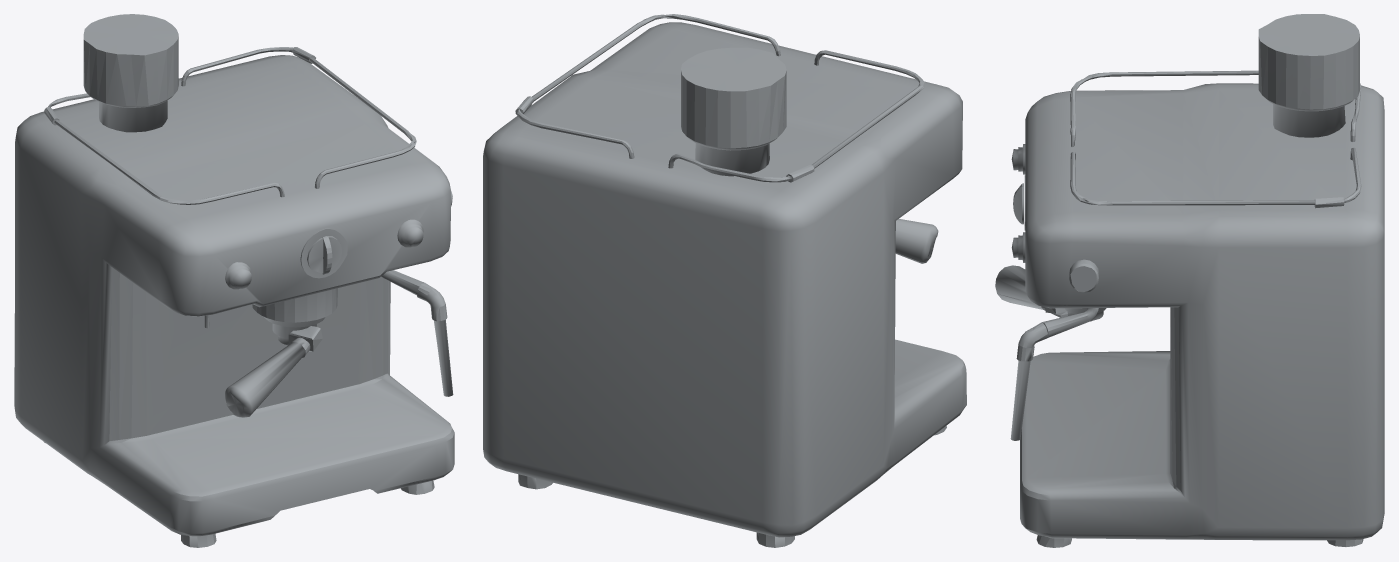
The model's file is station_espresso_texte_essai.glb.
The picture shows the model from 3 angles, left to right: view 1: azimuth 30°, elevation 25°; view 2: azimuth 150°, elevation 25°; view 3: azimuth 270°, elevation 25°; orthographic projection. The views are drawn at different scales.
Visible parts, largest first — view 1: station_espresso_texte_essai; view 2: station_espresso_texte_essai; view 3: station_espresso_texte_essai.
Part boxes in pixels (box(x1,y1,x2,y2)): station_espresso_texte_essai: box(14, 14, 454, 547); station_espresso_texte_essai: box(483, 14, 966, 547); station_espresso_texte_essai: box(995, 14, 1384, 547).
Size of the model in its own units: 0.76 by 0.9764 by 0.816.
Materials: 1 (1 with a texture image).
